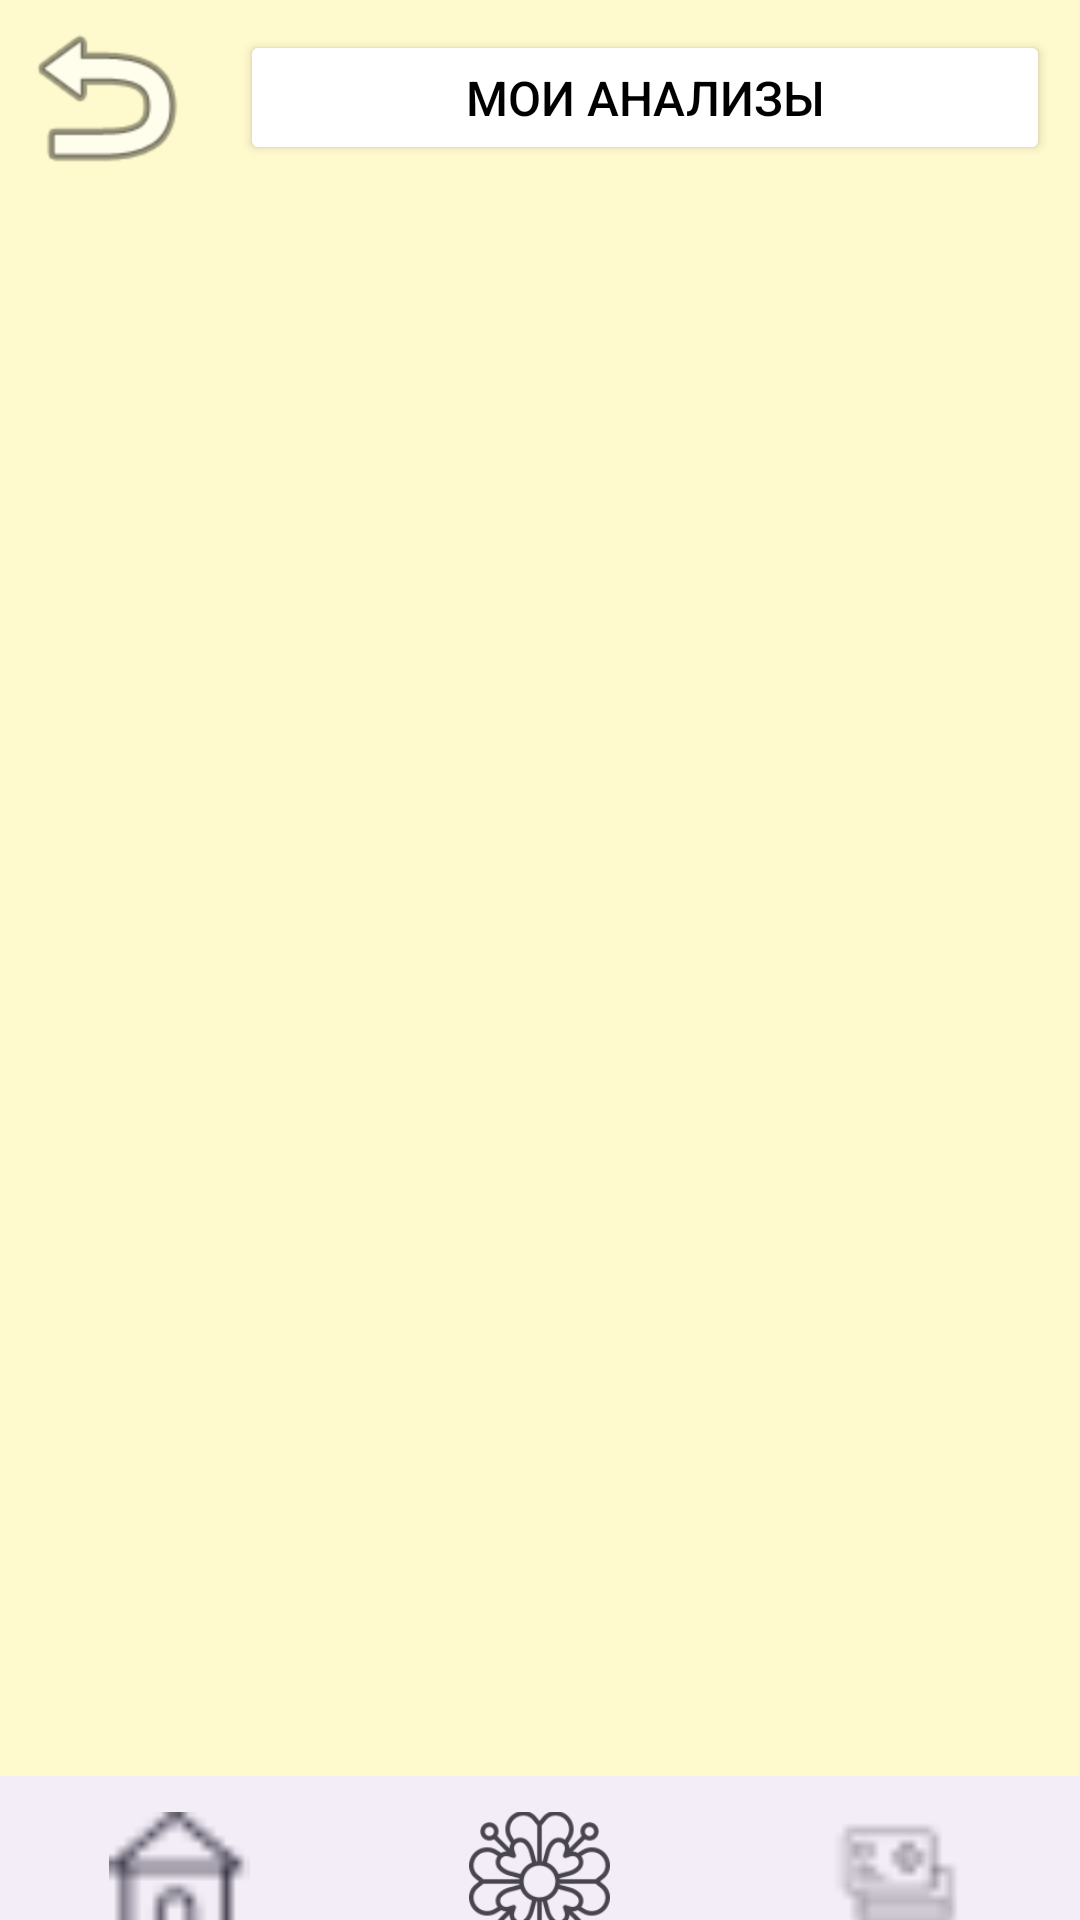

Icon click points for this 1080px×1920px phone screenshot, format (x=x, y=y):
revert: (x=107, y=98)
